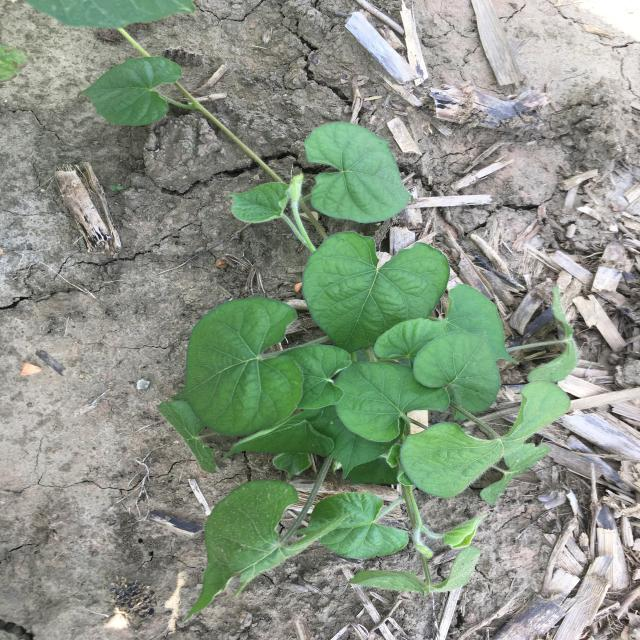MorningGlory: (24, 1, 579, 624)
